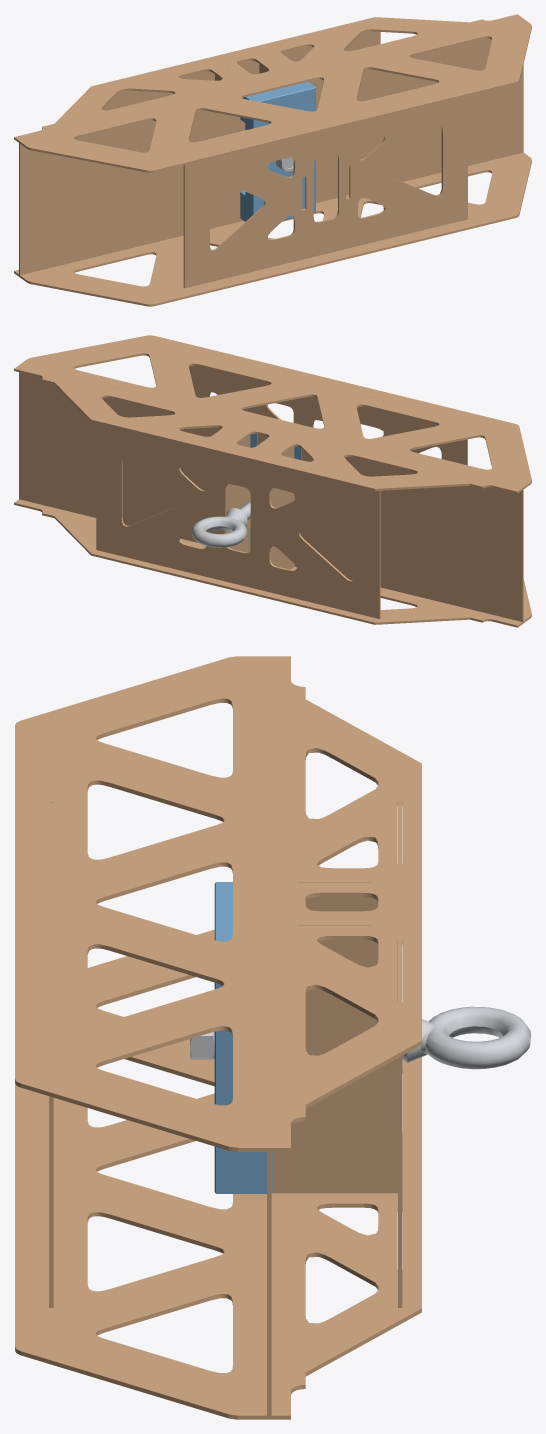
File: bridge.glb
3 renders of one model, top to bottom at view 1: azimuth 30°, elevation 25°; view 2: azimuth 150°, elevation 25°; view 3: azimuth 270°, elevation 25°, orthographic. The views are drawn at different scales.
Visible parts, largest first — view 1: part2, part0, part7, part6, part9, part4; view 2: part2, part0, part4, part6, part7, part1, part8, part5; view 3: part2, part6, part8, part1, part9, part0, part4, part7, part5.
Part boxes in pixels (x1=…): part2: x1=14, y1=14, x2=531, y2=172; part0: x1=19, y1=38, x2=523, y2=275; part7: x1=183, y1=94, x2=467, y2=288; part6: x1=14, y1=152, x2=531, y2=306; part9: x1=240, y1=81, x2=315, y2=221; part4: x1=102, y1=30, x2=380, y2=110; part2: x1=14, y1=335, x2=531, y2=493; part0: x1=19, y1=372, x2=523, y2=621; part4: x1=96, y1=423, x2=380, y2=618; part6: x1=14, y1=499, x2=531, y2=627; part7: x1=189, y1=361, x2=467, y2=465; part1: x1=192, y1=501, x2=250, y2=547; part8: x1=214, y1=426, x2=250, y2=552; part5: x1=258, y1=436, x2=294, y2=569; part2: x1=15, y1=656, x2=421, y2=1151; part6: x1=15, y1=929, x2=421, y2=1419; part8: x1=272, y1=921, x2=397, y2=1193; part1: x1=402, y1=1006, x2=530, y2=1069; part9: x1=214, y1=882, x2=272, y2=1193; part0: x1=267, y1=748, x2=271, y2=1415; part4: x1=398, y1=802, x2=402, y2=1307; part7: x1=49, y1=802, x2=53, y2=1307; part5: x1=298, y1=878, x2=378, y2=911.
Bounding box in the file's own units: 400 × 103 × 178.
